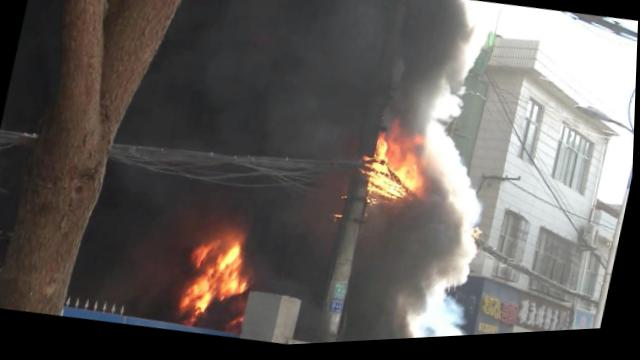fire: (218, 237, 250, 301), (395, 157, 429, 193), (376, 132, 405, 171), (197, 267, 220, 316), (370, 165, 399, 200), (184, 281, 203, 314), (196, 240, 217, 268), (239, 277, 256, 293), (391, 186, 405, 203)
